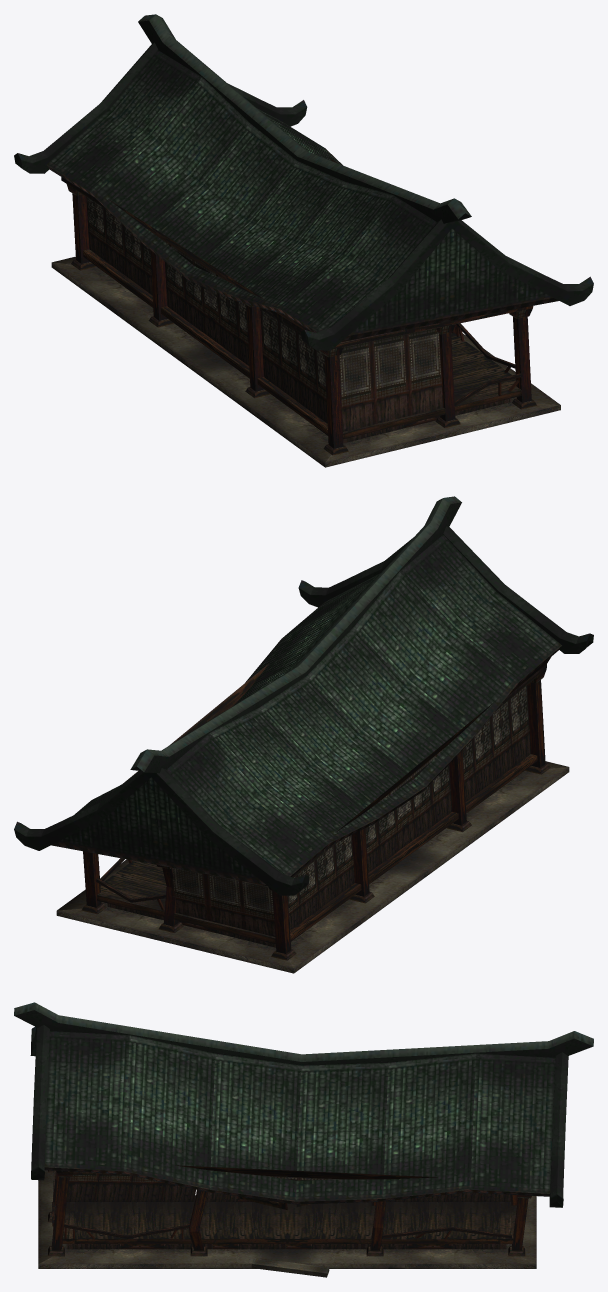
The model's file is c1-033-guesthouse-02_01.fbx.
3 renders of one model, top to bottom at view 1: azimuth 30°, elevation 25°; view 2: azimuth 150°, elevation 25°; view 3: azimuth 270°, elevation 25°, orthographic. The views are drawn at different scales.
Visible parts, largest first — view 1: c1-033-guesthouse-01; view 2: c1-033-guesthouse-01; view 3: c1-033-guesthouse-01.
Boxes of the visible parts, box(x1,y1,x2,y2) form: c1-033-guesthouse-01: box(14, 14, 593, 467); c1-033-guesthouse-01: box(14, 496, 593, 973); c1-033-guesthouse-01: box(14, 1002, 593, 1277).
Bounding box in the file's own units: 14.19 × 11.35 × 27.11.
